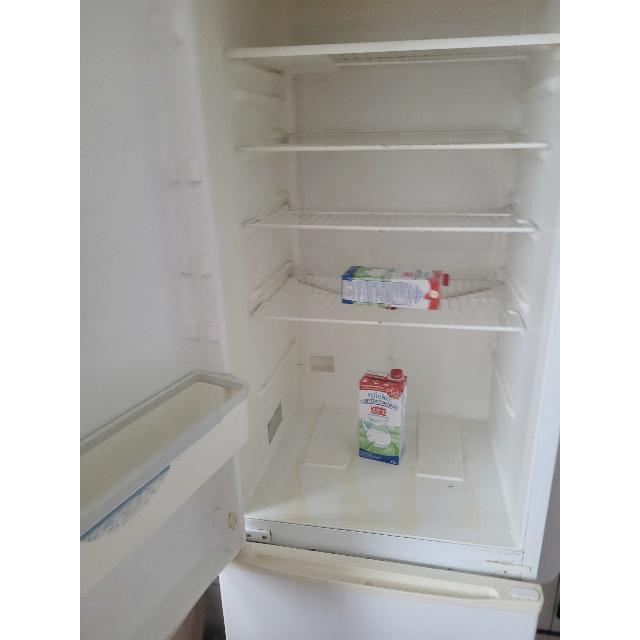milk: (358, 365, 408, 465), (342, 265, 448, 311)
